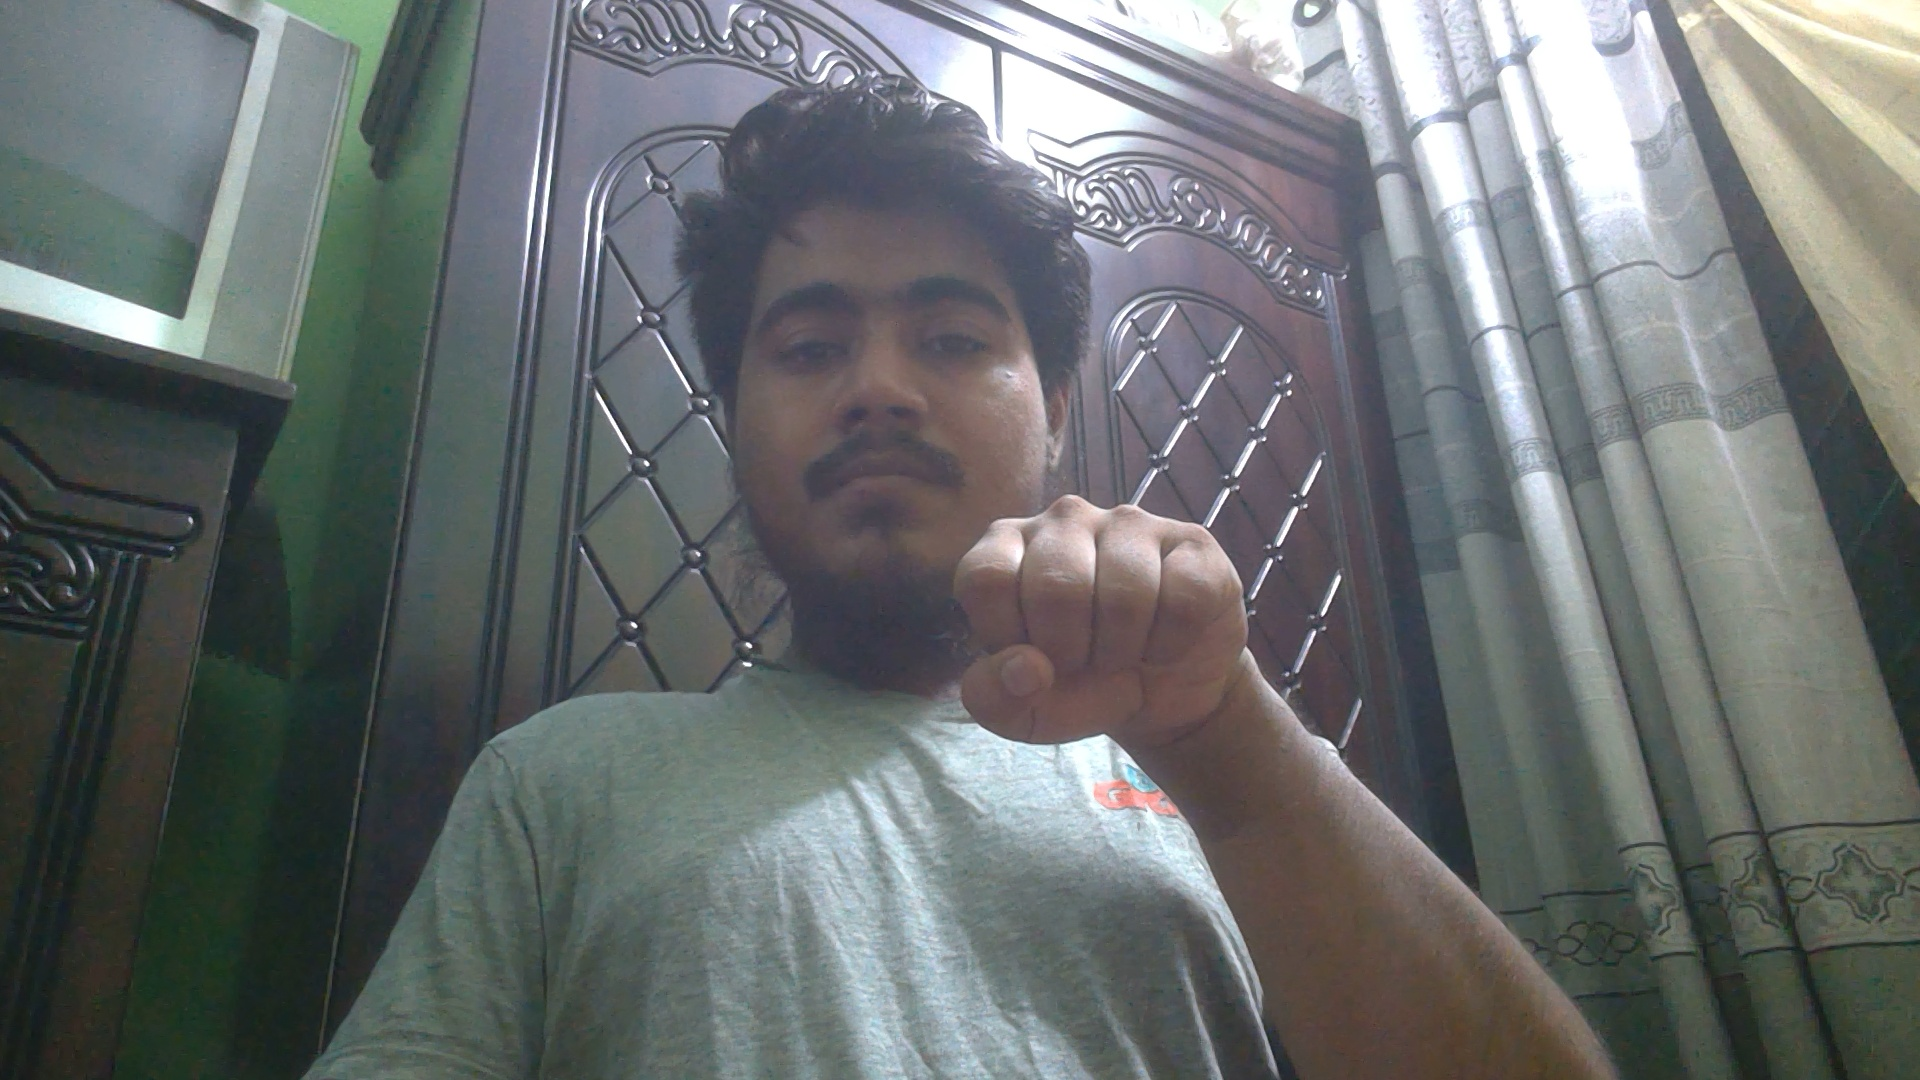yes: (949, 487, 1262, 764)
